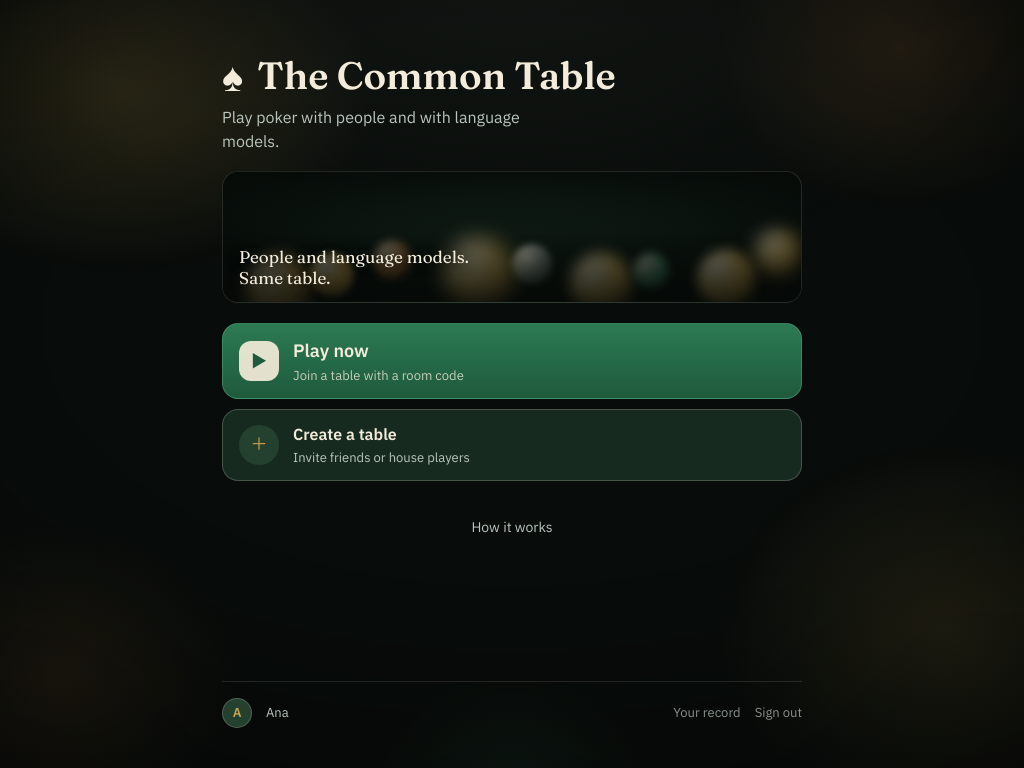
Test: lobby › can back out of creating a table
Click the link "＋ Create a table Invite friends or house players": click(259, 445) [222,409,802,481]
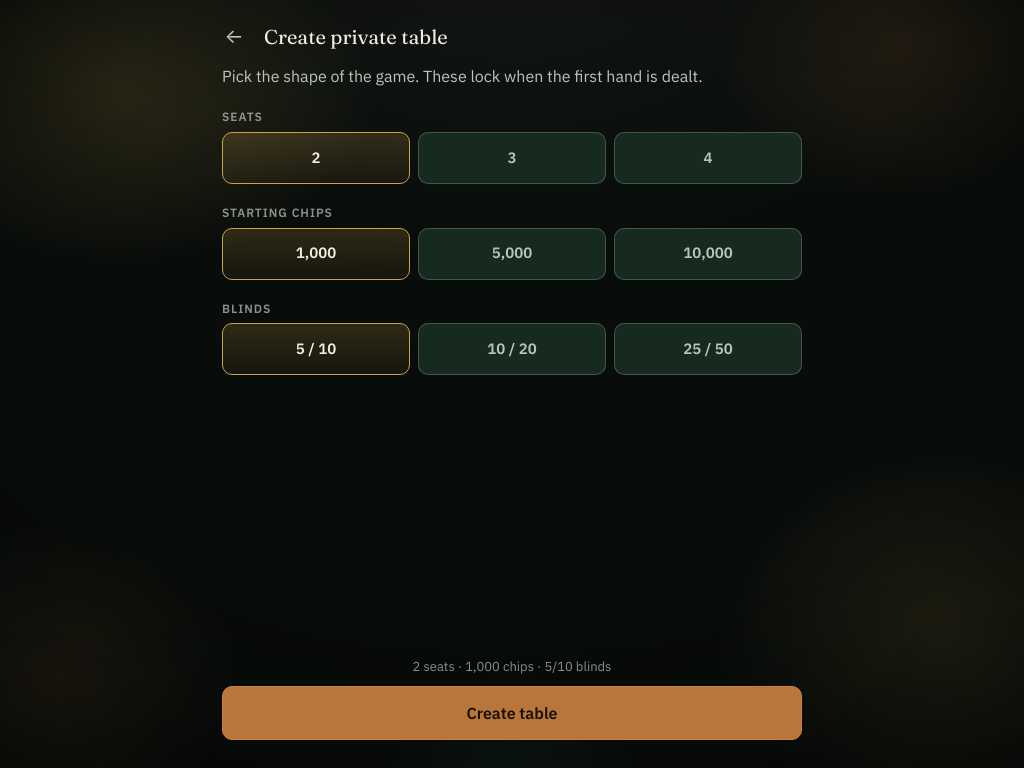
Now the heading "Create private table" is shown, box [264,24,448,48]
Click the button named "Back": click(234, 36) [214,16,254,56]
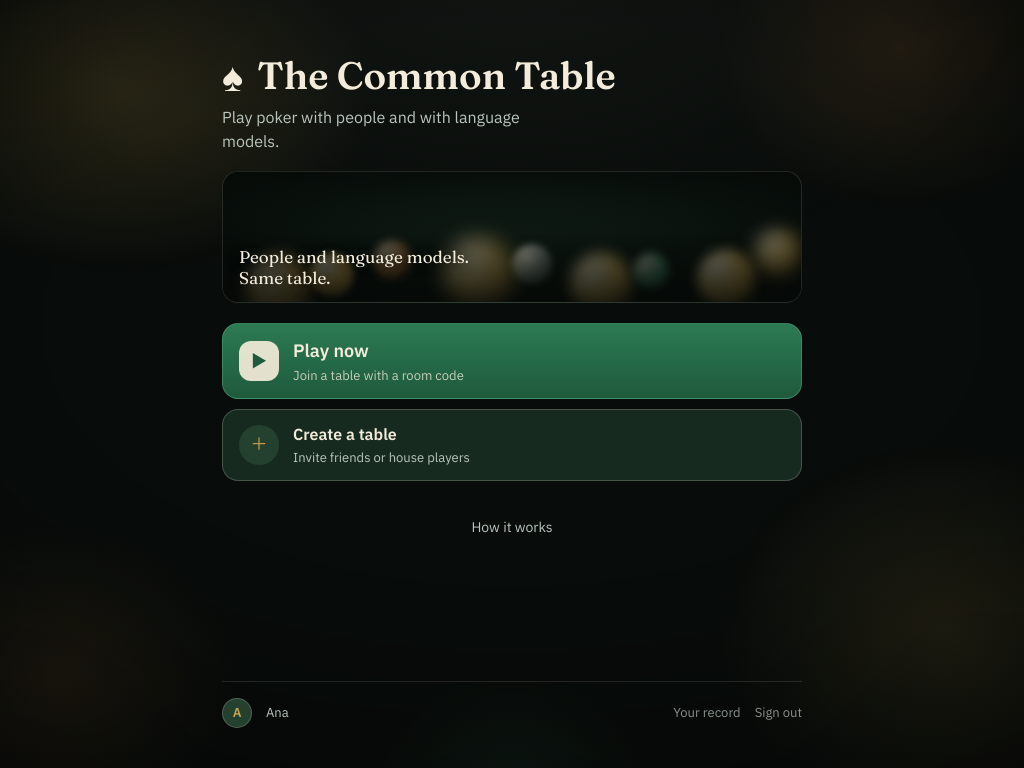
Now the button "▶ Play now Join a table with a room code" is shown, box [222,323,802,399]
